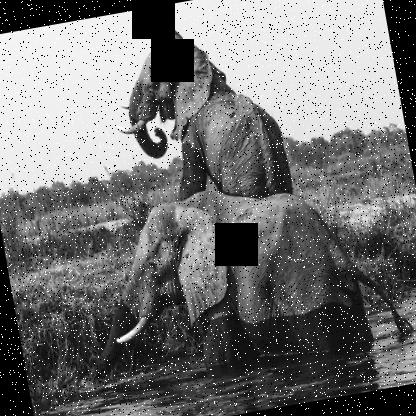Elephas-maximus: (56, 159, 415, 398), (100, 11, 294, 223)
